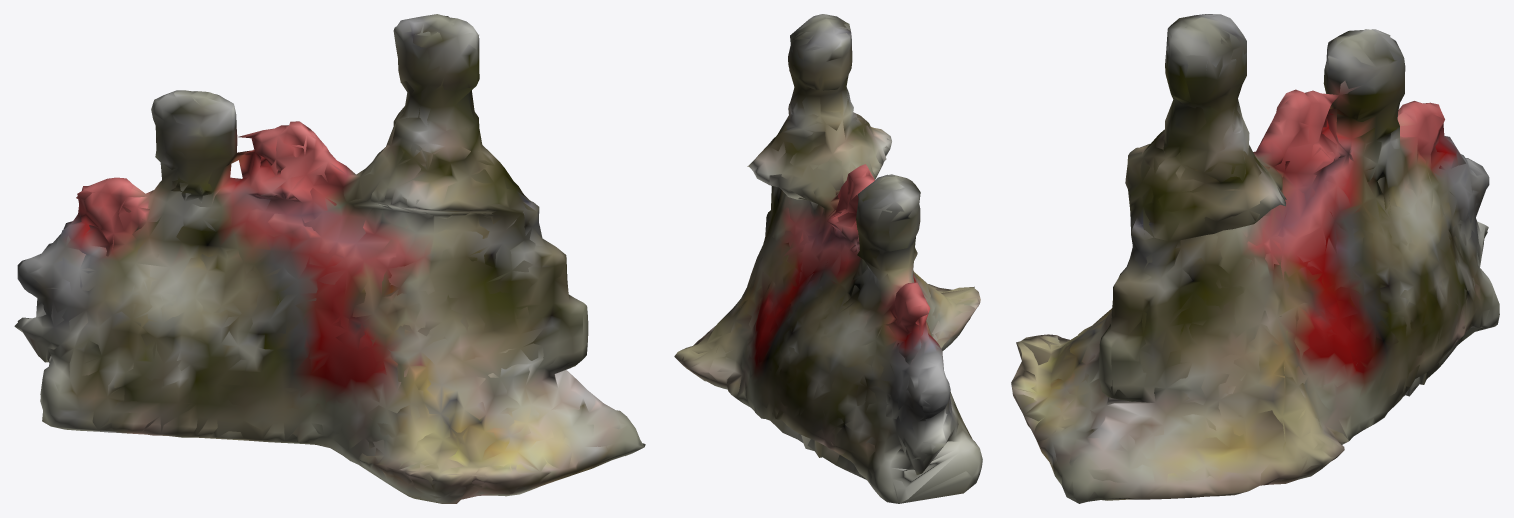
The model's file is soviet_refinery.glb.
3 views of the same model, side by side, from view 1: azimuth 30°, elevation 25°; view 2: azimuth 150°, elevation 25°; view 3: azimuth 270°, elevation 25° (orthographic). The views are drawn at different scales.
Visible parts, largest first — view 1: soviet_refinery; view 2: soviet_refinery; view 3: soviet_refinery.
Boxes of the visible parts, left/top/right/bottom form: soviet_refinery: left=14, top=14, right=645, bottom=503; soviet_refinery: left=674, top=14, right=982, bottom=503; soviet_refinery: left=1011, top=14, right=1499, bottom=503.
Bounding box in the file's own units: 1.73 × 1.6 × 1.7.
